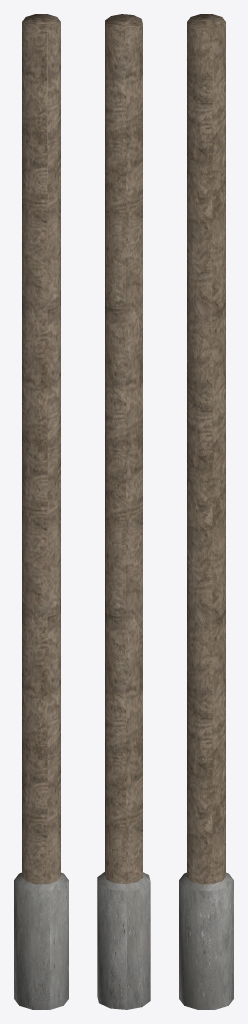
File: base_pole.glb
The picture shows the model from 3 angles, left to right: view 1: azimuth 90°, elevation 25°; view 2: azimuth 150°, elevation 25°; view 3: azimuth 270°, elevation 25°; orthographic projection.
Parts seen in each view (by area): view 1: BasePole_BasePole_0; view 2: BasePole_BasePole_0; view 3: BasePole_BasePole_0.
Part boxes in pixels (box(x1,y1,x2,y2)): BasePole_BasePole_0: box(14, 14, 68, 1009); BasePole_BasePole_0: box(97, 14, 150, 1009); BasePole_BasePole_0: box(179, 14, 233, 1009).
Bounding box in the file's own units: 24.18 × 500 × 25.43.
Materials: 1 (1 with a texture image).
